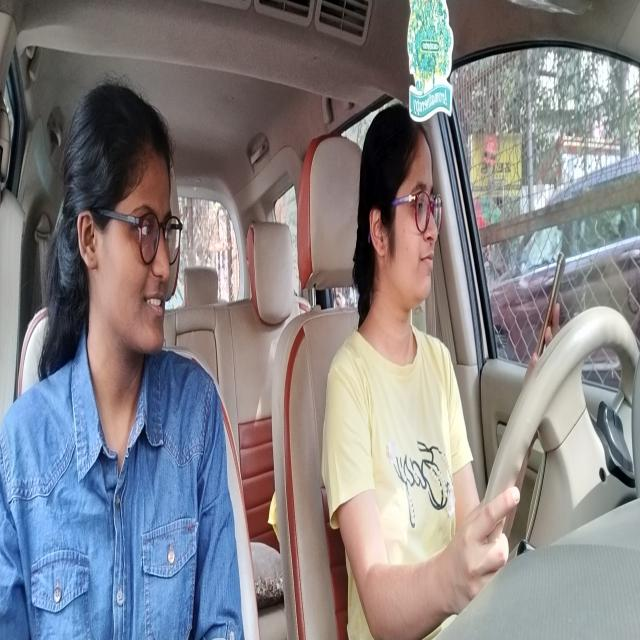mobile: (528, 232, 572, 384)
person: (62, 73, 181, 376), (353, 102, 448, 326)
